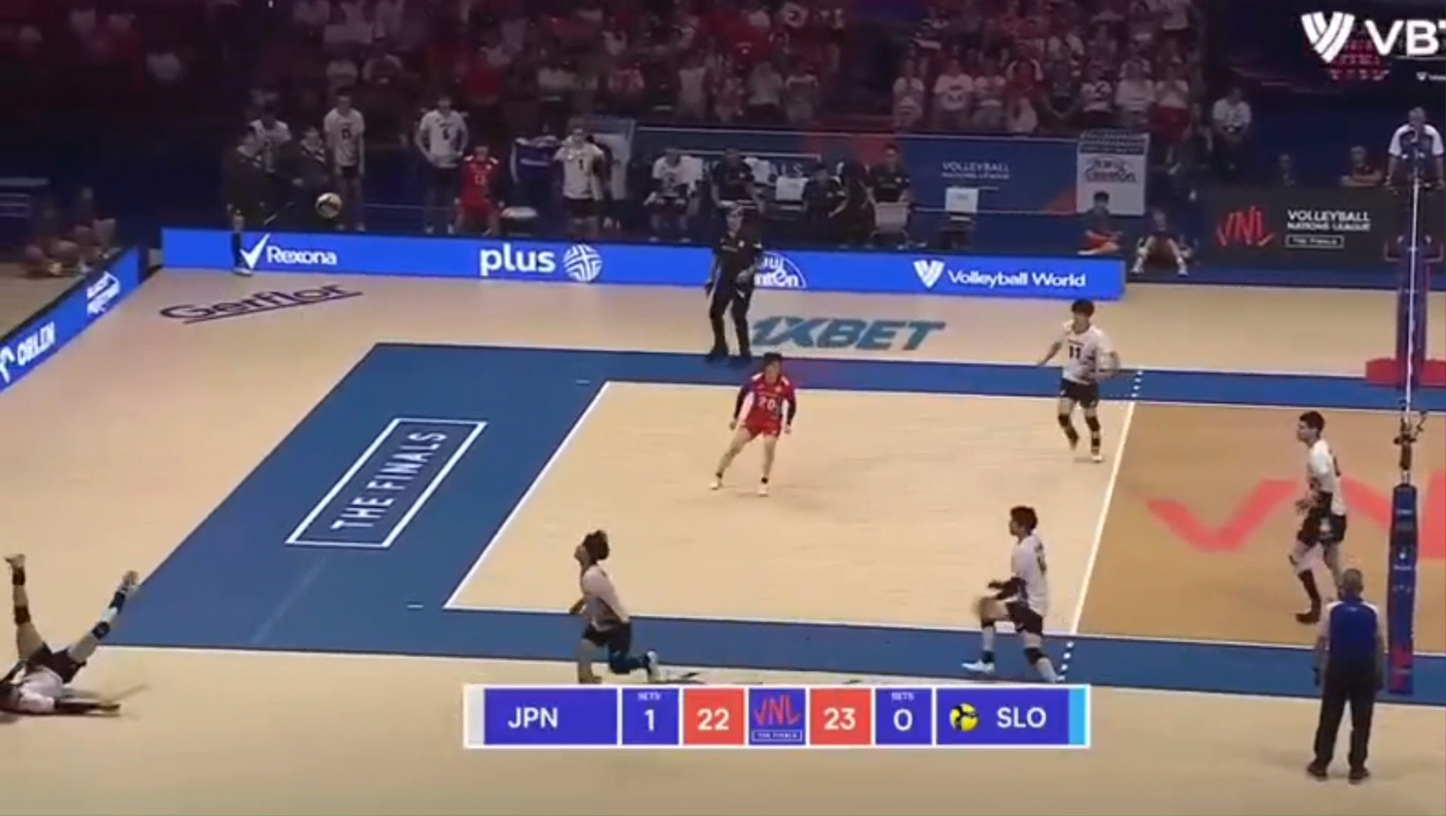ball: (315, 192, 342, 219)
player 1: (0, 554, 137, 715), (961, 505, 1060, 682), (568, 530, 660, 684), (1038, 299, 1118, 462), (1289, 410, 1348, 624), (712, 353, 797, 494)
referee: (1307, 568, 1385, 783), (1385, 106, 1445, 259), (705, 208, 763, 362)
